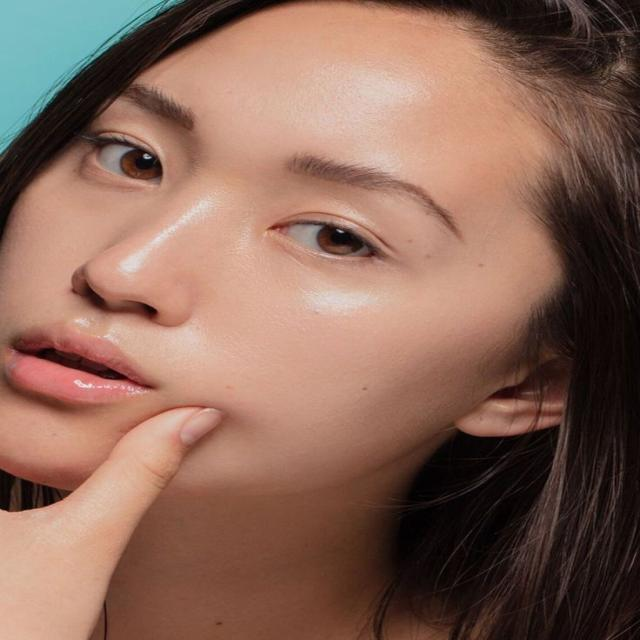oily: (222, 277, 420, 432), (250, 44, 450, 150), (80, 206, 228, 282)
